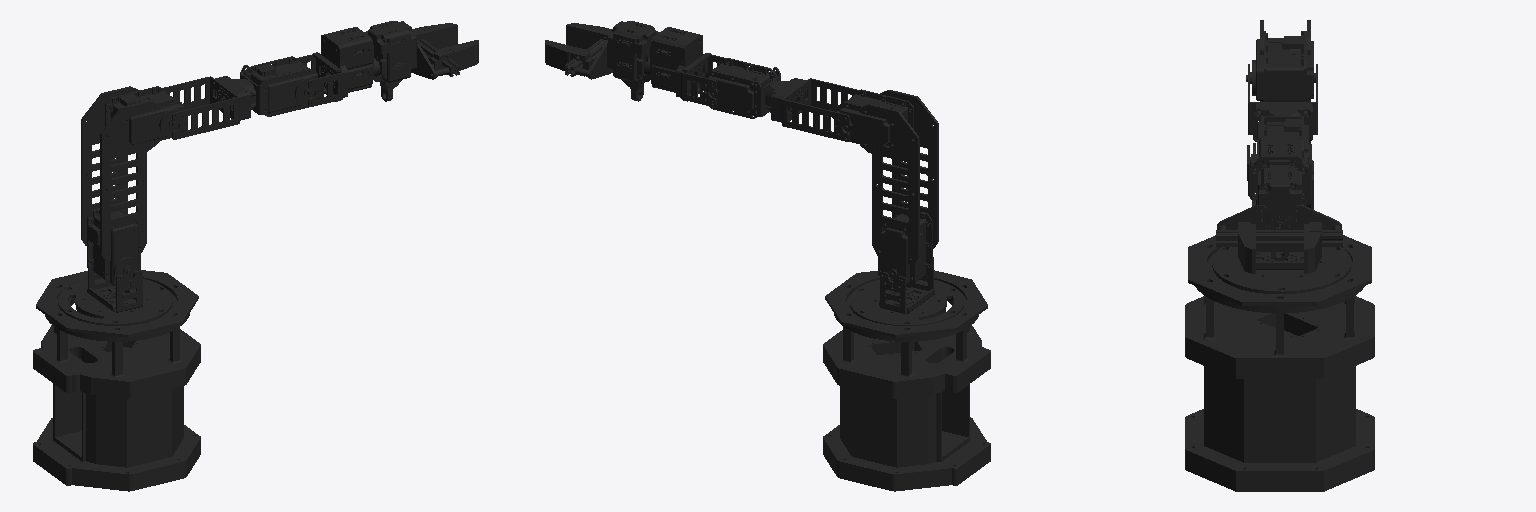
URDF robot description (widowxl):
<?xml version="1.0" ?>
<robot name="widowxl">
  
  <material name="interbotix_black">
    <color rgba="0.2 0.2 0.2 1.0"/>
  </material>

  <link name="widowxl/base_link">
    <visual>
      <origin rpy="0 0 0" xyz="0 0 0"/>
      <geometry>
        <mesh filename="package://my_widowxl_description/meshes/base_link.stl" scale="0.001 0.001 0.001"/>
      </geometry>
      <material name="interbotix_black"/>
    </visual>
    <collision>
      <origin rpy="0 0 0" xyz="0 0 0.05"/>
      <geometry>
        <cylinder length="0.1" radius="0.07"/>
      </geometry>
    </collision>
  </link>

  <joint name="waist" type="revolute">
    <axis xyz="0 0 1"/>
    <limit effort="10" lower="-3.1415" upper="3.1415" velocity="1.571"/>
    <origin rpy="0 0 0" xyz="0 0 0.167"/>
    <parent link="widowxl/base_link"/>
    <child link="widowxl/shoulder_link"/>
    <dynamics friction="0.1"/>
  </joint>

  <link name="widowxl/shoulder_link">
    <visual>
      <origin rpy="0 0 0" xyz="0 0 -0.167"/>
      <geometry>
        <mesh filename="package://my_widowxl_description/meshes/shoulder_link__4__1.stl" scale="0.001 0.001 0.001"/>
      </geometry>
      <material name="interbotix_black"/>
    </visual>
    <collision>
      <origin rpy="0 0 0" xyz="0 0 0"/>
      <geometry>
        <cylinder length="0.1" radius="0.04"/>
      </geometry>
    </collision>
    <inertial>
      <origin rpy="0 0 0" xyz="0 0 -0.167"/>
      <mass value="0.48"/>
      <inertia ixx="0.001" ixy="0.0" ixz="0.0" iyy="0.001" iyz="0.0" izz="0.001"/>
    </inertial>
  </link>

  <joint name="shoulder" type="revolute">
    <axis xyz="0 1 0"/>
    <limit effort="20" lower="-1.571" upper="1.571" velocity="1.571"/>
    <origin rpy="0 0 0" xyz="0 0 0.0367"/>
    <parent link="widowxl/shoulder_link"/>
    <child link="widowxl/upper_arm_link"/>
    <dynamics friction="0.1"/>
  </joint>

  <link name="widowxl/upper_arm_link">
    <visual>
      <origin rpy="0 0 0" xyz="0 0 -0.2"/>
      <geometry>
        <mesh filename="package://my_widowxl_description/meshes/biceps_link_1.stl" scale="0.001 0.001 0.001"/>
      </geometry>
      <material name="interbotix_black"/>
    </visual>
    <collision>
      <origin rpy="0 1.5708 0" xyz="0.1 0 0"/>
      <geometry>
        <cylinder length="0.15" radius="0.04"/>
      </geometry>
    </collision>
    <inertial>
      <origin rpy="0 0 0" xyz="0 0 -0.2"/>
      <mass value="0.43"/>
      <inertia ixx="0.001" ixy="0.0" ixz="0.0" iyy="0.001" iyz="0.0" izz="0.001"/>
    </inertial>
  </link>

  <joint name="elbow" type="revolute">
    <axis xyz="0 1 0"/>
    <limit effort="15" lower="-1.571" upper="1.571" velocity="1.571"/>
    <origin rpy="0 0 0" xyz="0.05 0 0.145"/>
    <parent link="widowxl/upper_arm_link"/>
    <child link="widowxl/forearm_link"/>
    <dynamics friction="0.1"/>
  </joint>

  <link name="widowxl/forearm_link">
    <visual>
      <origin rpy="0 0 0" xyz="-0.05 0 -0.347"/>
      <geometry>
        <mesh filename="package://my_widowxl_description/meshes/forearm_link_1.stl" scale="0.001 0.001 0.001"/>
      </geometry>
      <material name="interbotix_black"/>
    </visual>
    <collision>
      <origin rpy="0 1.5708 0" xyz="0.12 0 0"/>
      <geometry>
         <cylinder length="0.25" radius="0.03"/>
      </geometry>
    </collision>
    <inertial>
      <origin rpy="0 0 0" xyz="-0.05 0 -0.347"/>
      <mass value="0.3"/>
      <inertia ixx="0.001" ixy="0.0" ixz="0.0" iyy="0.001" iyz="0.0" izz="0.001"/>
    </inertial>
  </link>

  <joint name="wrist_angle" type="revolute">
    <axis xyz="0 1 0"/>
    <limit effort="5" lower="-1.745" upper="1.745" velocity="1.571"/>
    <origin rpy="0 0 0" xyz="0.15 0 0"/>
    <parent link="widowxl/forearm_link"/>
    <child link="widowxl/wrist_link"/>
    <dynamics friction="0.1"/>
  </joint>

  <link name="widowxl/wrist_link">
    <visual>
      <origin rpy="0 0 0" xyz="-0.2 0 -0.347"/>
      <geometry>
        <mesh filename="package://my_widowxl_description/meshes/wrist_1_1.stl" scale="0.001 0.001 0.001"/>
      </geometry>
      <material name="interbotix_black"/>
    </visual>
    <collision>
       <origin rpy="0 0 0" xyz="0 0 0"/>
       <geometry>
         <box size="0.06 0.04 0.04"/>
       </geometry>
    </collision>
    <inertial>
      <origin rpy="0 0 0" xyz="-0.2 0 -0.347"/>
      <mass value="0.08"/>
      <inertia ixx="0.001" ixy="0.0" ixz="0.0" iyy="0.001" iyz="0.0" izz="0.001"/>
    </inertial>
  </link>

  <joint name="wrist_rotate" type="revolute">
    <axis xyz="1 0 0"/>
    <limit effort="1" lower="-2.167" upper="2.167" velocity="1.571"/>
    <origin rpy="0 0 0" xyz="0.08 0 0"/>
    <parent link="widowxl/wrist_link"/>
    <child link="widowxl/wrist_2_link"/>
    <dynamics friction="0.1"/>
  </joint>

  <link name="widowxl/wrist_2_link">
    <visual>
      <origin rpy="0 0 0" xyz="-0.28 0.0 -0.347"/>
      <geometry>
        <mesh filename="package://my_widowxl_description/meshes/wrist_2_1.stl" scale="0.001 0.001 0.001"/>
      </geometry>
      <material name="interbotix_black"/>
    </visual>
    <collision>
      <origin rpy="0 0 0" xyz="0 0 0"/>
      <geometry>
        <box size="0.04 0.04 0.04"/>
      </geometry>
    </collision>
    <inertial>
      <origin rpy="0 0 0" xyz="-0.28 0.0 -0.347"/>
      <mass value="0.07"/>
      <inertia ixx="0.001" ixy="0.0" ixz="0.0" iyy="0.001" iyz="0.0" izz="0.001"/>
    </inertial>
  </link>

  <joint name="ee_arm" type="fixed">
    <axis xyz="1 0 0"/>
    <origin rpy="0 0 0" xyz="0.043 0 0"/>
    <parent link="widowxl/wrist_2_link"/>
    <child link="widowxl/ee_arm_link"/>
  </joint>

  <link name="widowxl/ee_arm_link">
    <inertial>
      <mass value="0.001"/>
      <inertia ixx="0.001" ixy="0" ixz="0" iyy="0.001" iyz="0.0" izz="0.001"/>
    </inertial>
  </link>

  <joint name="gripper" type="continuous">
    <axis xyz="1 0 0"/>
    <limit effort="1" velocity="3.1415"/>
    <origin rpy="0 0 0" xyz="0.0055 0 0"/>
    <parent link="widowxl/ee_arm_link"/>
    <child link="widowxl/gripper_prop_link"/>
  </joint>

  <link name="widowxl/gripper_prop_link">
    <inertial>
      <mass value="0.01"/>
      <inertia ixx="0.001" ixy="0.0" ixz="0.0" iyy="0.001" iyz="0.0" izz="0.001"/>
    </inertial>
  </link>

  <joint name="gripper_bar" type="fixed">
    <axis xyz="1 0 0"/>
    <origin rpy="0 0 0" xyz="0 0 0"/>
    <parent link="widowxl/ee_arm_link"/>
    <child link="widowxl/gripper_bar_link"/>
  </joint>

  <link name="widowxl/gripper_bar_link">
    <inertial>
      <origin rpy="0 0 1.5707" xyz="0.009 0.0 0.004"/>
      <mass value="0.05"/>
      <inertia ixx="0.001" ixy="0.0" ixz="0.0" iyy="0.001" iyz="0.0" izz="0.001"/>
    </inertial>
  </link>

  <joint name="ee_bar" type="fixed">
    <axis xyz="1 0 0"/>
    <origin rpy="0 0 0" xyz="0.023 0 0"/>
    <parent link="widowxl/gripper_bar_link"/>
    <child link="widowxl/fingers_link"/>
  </joint>

  <link name="widowxl/fingers_link">
    <inertial>
      <mass value="0.001"/>
      <inertia ixx="0.001" ixy="0" ixz="0" iyy="0.001" iyz="0" izz="0.001"/>
    </inertial>
  </link>

  <joint name="left_finger" type="prismatic">
    <axis xyz="0 1 0"/>
    <limit effort="5" lower="0.015" upper="0.037" velocity="1"/>
    <origin rpy="0 0 0" xyz="0 0 0"/>
    <parent link="widowxl/fingers_link"/>
    <child link="widowxl/left_finger_link"/>
    <dynamics friction="0.1"/>
  </joint>

  <link name="widowxl/left_finger_link">
    <visual>
      <origin rpy="0 0 0" xyz="-0.346 -0.007 -0.347"/>
      <geometry>
        <mesh filename="package://my_widowxl_description/meshes/finger.stl" scale="0.001 0.001 0.001"/>
      </geometry>
      <material name="interbotix_black"/>
    </visual>
    <inertial>
      <origin rpy="0 0 0" xyz="0 0 0"/>
      <mass value="0.02"/>
      <inertia ixx="0.001" ixy="0" ixz="0" iyy="0.001" iyz="0" izz="0.001"/>
    </inertial>
  </link>

  <joint name="right_finger" type="prismatic">
    <axis xyz="0 1 0"/>
    <limit effort="5" lower="-0.037" upper="-0.015" velocity="1"/>
    <origin rpy="0 0 0" xyz="0 0 0"/>
    <parent link="widowxl/fingers_link"/>
    <child link="widowxl/right_finger_link"/>
    <dynamics friction="0.1"/>
    <mimic joint="left_finger" multiplier="-1" offset="0"/>
  </joint>

  <link name="widowxl/right_finger_link">
    <visual>
      <origin rpy="-3.1415 0 0" xyz="-0.346 0.007 0.345"/>
      <geometry>
        <mesh filename="package://my_widowxl_description/meshes/finger.stl" scale="0.001 0.001 0.001"/>
      </geometry>
      <material name="interbotix_black"/>
    </visual>
    <inertial>
      <origin rpy="0 0 0" xyz="0 0 0"/>
      <mass value="0.02"/>
      <inertia ixx="0.001" ixy="0" ixz="0" iyy="0.001" iyz="0" izz="0.001"/>
    </inertial>
  </link>

  <joint name="ee_gripper" type="fixed">
    <axis xyz="1 0 0"/>
    <origin rpy="0 0 0" xyz="0.027575 0 0"/>
    <parent link="widowxl/fingers_link"/>
    <child link="widowxl/ee_gripper_link"/>
  </joint>

  <link name="widowxl/ee_gripper_link">
    <inertial>
      <mass value="0.001"/>
      <inertia ixx="0.001" ixy="0" ixz="0" iyy="0.001" iyz="0" izz="0.001"/>
    </inertial>
  </link>

</robot>

--- Facts derived from the render (not from the file) ---
Views: 3 orthographic renders of the robot side by side, from view 1: azimuth 30°, elevation 25°; view 2: azimuth 150°, elevation 25°; view 3: azimuth 270°, elevation 25°.
Robot: widowxl — 13 links, 12 joints (5 revolute, 1 continuous, 2 prismatic, 4 fixed); root link widowxl/base_link; default pose: all joints at 0 but 2 set to mid-range because 0 is outside their limits (left_finger = 0.026, right_finger = -0.026).
Links seen in each view (by area): view 1: widowxl/base_link, widowxl/upper_arm_link, widowxl/forearm_link, widowxl/shoulder_link, widowxl/wrist_link, widowxl/wrist_2_link, widowxl/right_finger_link, widowxl/left_finger_link; view 2: widowxl/base_link, widowxl/upper_arm_link, widowxl/forearm_link, widowxl/shoulder_link, widowxl/wrist_link, widowxl/wrist_2_link, widowxl/left_finger_link, widowxl/right_finger_link; view 3: widowxl/base_link, widowxl/wrist_2_link, widowxl/shoulder_link, widowxl/upper_arm_link, widowxl/forearm_link, widowxl/wrist_link, widowxl/right_finger_link, widowxl/left_finger_link.
Link boxes in pixels (x1,y1,x2,y2): widowxl/base_link: [33, 270, 200, 491]; widowxl/upper_arm_link: [81, 86, 184, 285]; widowxl/forearm_link: [163, 56, 320, 139]; widowxl/shoulder_link: [58, 269, 172, 325]; widowxl/wrist_link: [291, 27, 373, 106]; widowxl/wrist_2_link: [364, 21, 459, 101]; widowxl/right_finger_link: [430, 40, 478, 75]; widowxl/left_finger_link: [412, 23, 457, 48]; widowxl/base_link: [823, 270, 990, 491]; widowxl/upper_arm_link: [836, 89, 938, 287]; widowxl/forearm_link: [705, 58, 858, 141]; widowxl/shoulder_link: [850, 257, 963, 325]; widowxl/wrist_link: [650, 27, 729, 106]; widowxl/wrist_2_link: [565, 21, 659, 101]; widowxl/left_finger_link: [545, 40, 593, 76]; widowxl/right_finger_link: [566, 23, 612, 48]; widowxl/base_link: [1185, 235, 1374, 491]; widowxl/wrist_2_link: [1216, 165, 1342, 260]; widowxl/shoulder_link: [1212, 247, 1350, 293]; widowxl/upper_arm_link: [1246, 20, 1315, 209]; widowxl/forearm_link: [1248, 64, 1317, 163]; widowxl/wrist_link: [1247, 137, 1311, 199]; widowxl/right_finger_link: [1238, 222, 1255, 273]; widowxl/left_finger_link: [1304, 222, 1321, 273].
Size in the robot's own frame: 0.4628 by 0.1496 by 0.3851 metres.
8 mesh visuals loaded from 7 distinct referenced files (7 binary STL).
